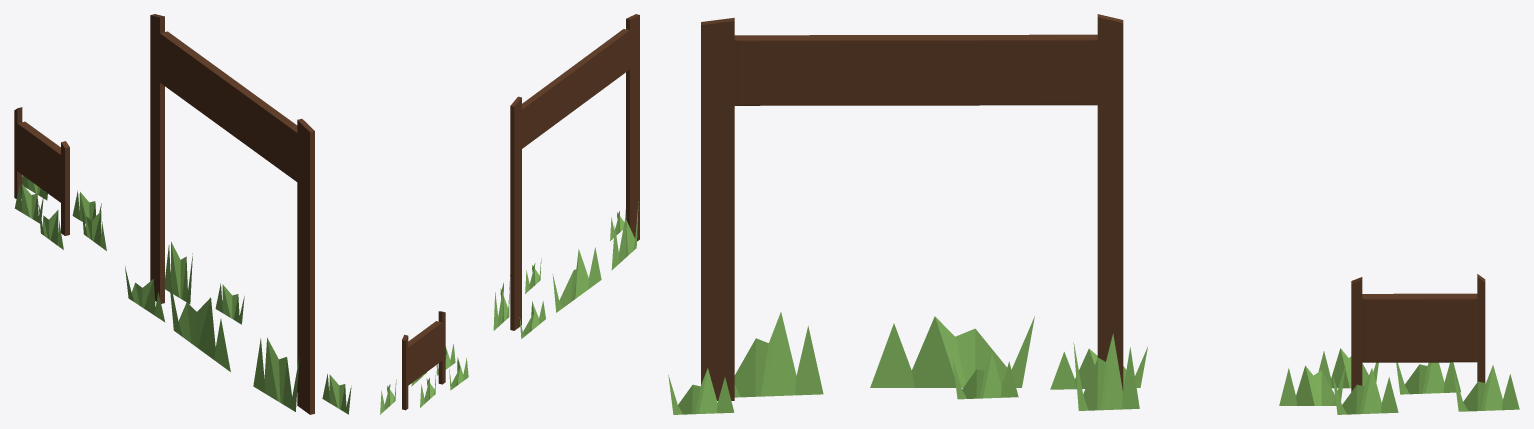
The model's file is Park_Sign.fbx.
The picture shows the model from 3 angles, left to right: view 1: azimuth 30°, elevation 25°; view 2: azimuth 150°, elevation 25°; view 3: azimuth 270°, elevation 25°; orthographic projection. The views are drawn at different scales.
Parts seen in each view (by area): view 1: Cube.001, Cube, Plane.009, Plane.006, Plane.008, Plane.010, Plane.007, Plane.005, Plane.004, Plane.003, Plane, Plane.001; view 2: Cube.001, Cube, Plane.009, Plane.006, Plane.008, Plane.010, Plane.003, Plane.002, Plane.007, Plane.004; view 3: Cube.001, Cube, Plane.009, Plane.006, Plane.008, Plane.007, Plane, Plane.002, Plane.001, Plane.005, Plane.004, Plane.010 (+1 smaller).
Part boxes in pixels (x1,y1,x2,y2): Cube.001: (150,14,314,414); Cube: (14,107,69,235); Plane.009: (168,274,230,371); Plane.006: (253,337,299,411); Plane.008: (165,241,192,304); Plane.010: (125,266,165,322); Plane.007: (215,283,244,324); Plane.005: (322,374,351,414); Plane.004: (14,184,43,223); Plane.003: (38,202,63,249); Plane: (81,203,106,250); Plane.001: (72,190,101,223); Cube.001: (510,14,639,330); Cube: (402,311,445,410); Plane.009: (552,247,601,312); Plane.006: (611,201,638,270); Plane.008: (493,275,510,330); Plane.010: (519,301,545,338); Plane.003: (449,357,468,390); Plane.002: (380,379,396,414); Plane.007: (525,258,541,293); Plane.004: (420,371,436,407); Cube.001: (701,14,1123,400); Cube: (1351,274,1485,391); Plane.009: (870,316,1034,387); Plane.006: (734,312,823,397); Plane.008: (1073,333,1139,410); Plane.007: (952,352,1018,399); Plane: (1279,365,1345,405); Plane.002: (1453,365,1519,411); Plane.001: (1332,368,1398,414); Plane.005: (668,368,734,414); Plane.004: (1396,362,1460,394); Plane.010: (1050,347,1147,389).
Size of the model in its own units: 347 by 1848 by 3689.
